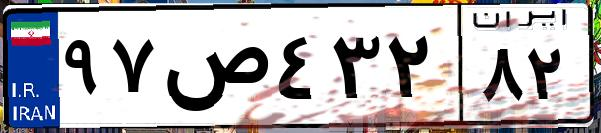2: (385, 28, 445, 110), (525, 38, 570, 115)
3: (330, 28, 385, 110)
4: (270, 28, 330, 110)
7: (110, 28, 158, 98)
8: (475, 38, 525, 113)
9: (57, 26, 110, 100)
ص: (158, 20, 270, 120)
